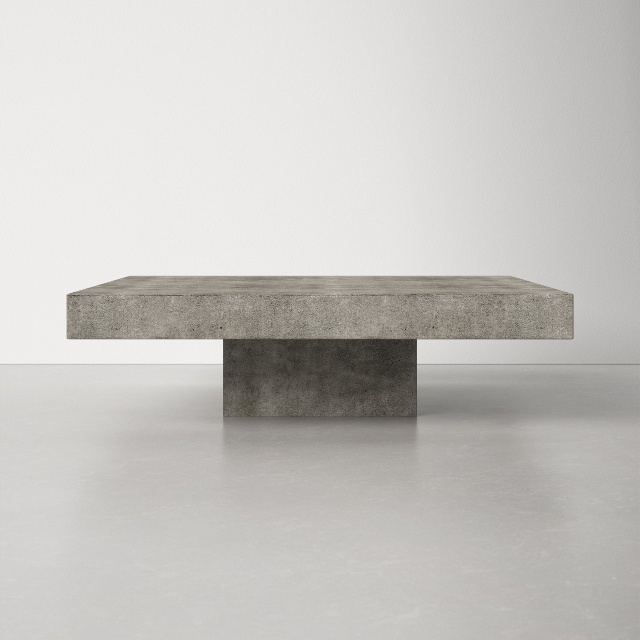obstacle: (67, 276, 573, 416)
